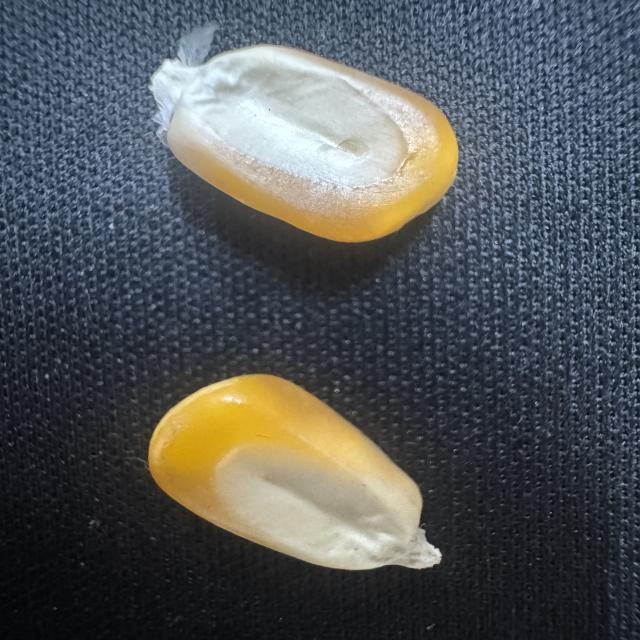Good-Seed: (145, 21, 464, 246), (144, 368, 446, 575)
